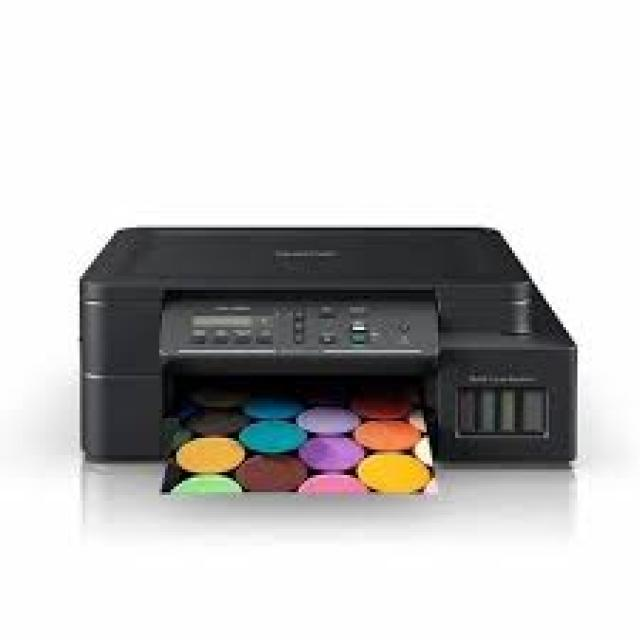printer: (77, 222, 577, 466)
